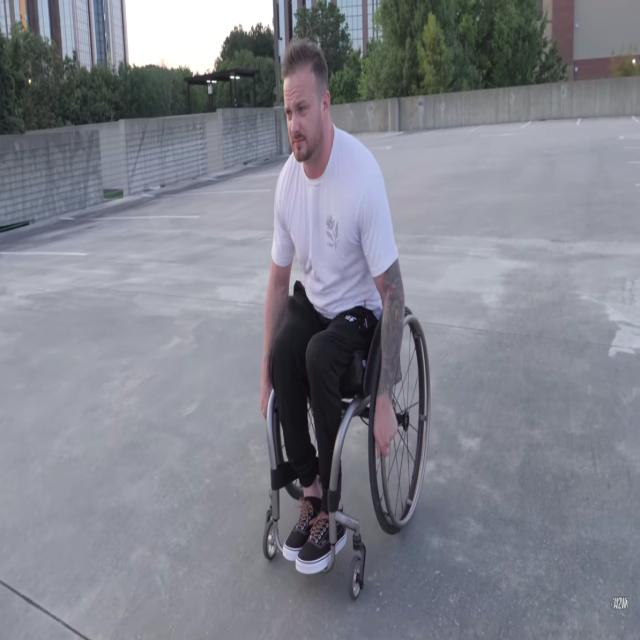wheelchairs: (263, 253, 434, 607)
